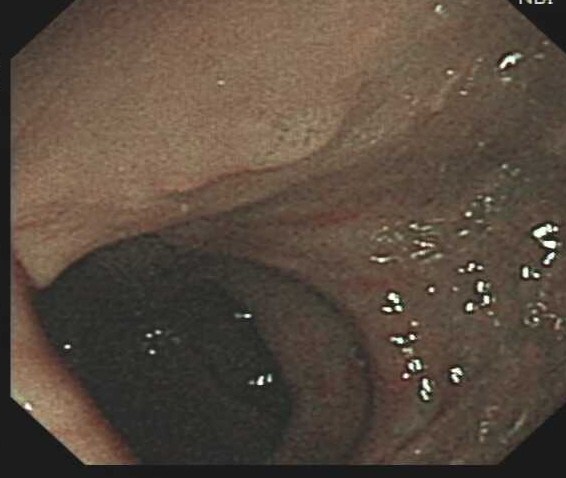others: (235, 100, 349, 174)
